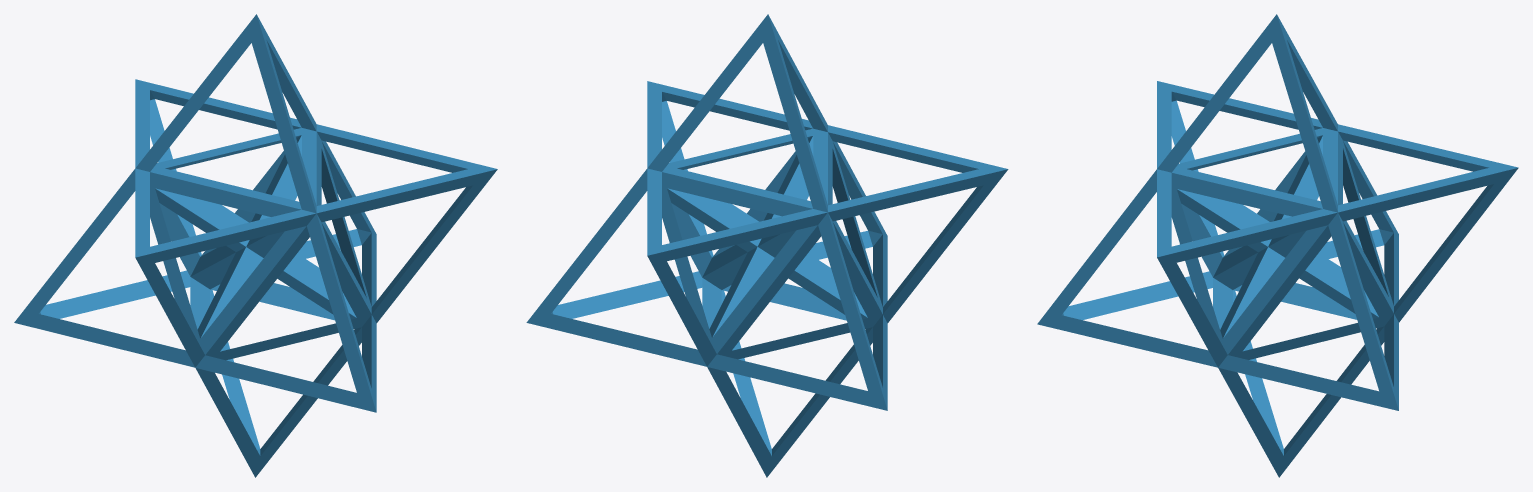
Rendered from octafreshtwo.fbx.
3 views of the same model, side by side, from view 1: azimuth 30°, elevation 25°; view 2: azimuth 150°, elevation 25°; view 3: azimuth 270°, elevation 25° (orthographic).
Visible parts, largest first — view 1: Polygon, Polygon_3, Polygon_2; view 2: Polygon, Polygon_3, Polygon_2; view 3: Polygon, Polygon_3, Polygon_2.
Boxes of the visible parts, <box> form: Polygon: <box>150,128,371,360</box>; Polygon_3: <box>14,14,376,412</box>; Polygon_2: <box>135,79,497,477</box>; Polygon: <box>662,128,882,359</box>; Polygon_3: <box>526,14,887,410</box>; Polygon_2: <box>647,81,1008,477</box>; Polygon: <box>1171,128,1393,359</box>; Polygon_3: <box>1037,14,1398,410</box>; Polygon_2: <box>1157,81,1518,477</box>.
Size of the model in its own units: 111 by 136 by 128.
